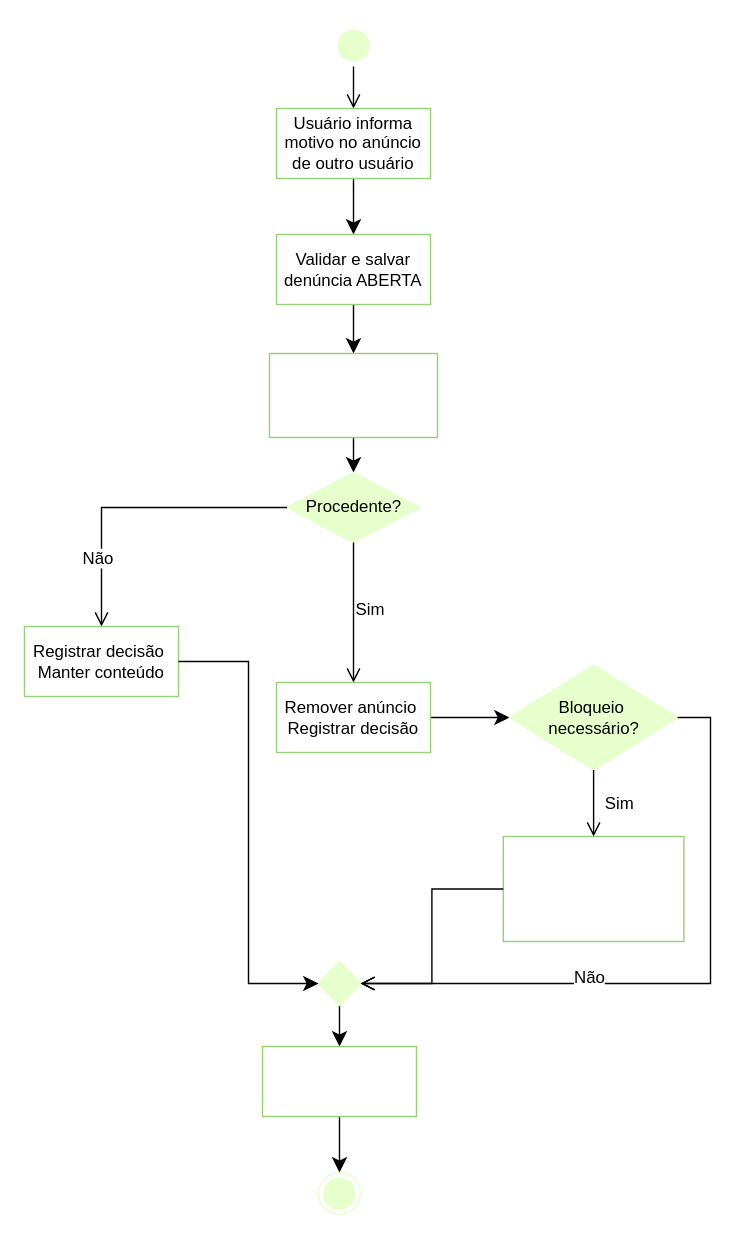
The diagram is 749 pixels wide and 1253 high, and some of its shapes have lost their labels. Each missing label, with the centre of its shape:
"Administrar consulta denúncia e conteúdo associado" goes at point 353,395.
"Bloquear anunciante Ocultar todos seus anúncios" goes at point 593,888.
"Resolver denúncia com moderador e data de decisão" goes at point 338,1080.
